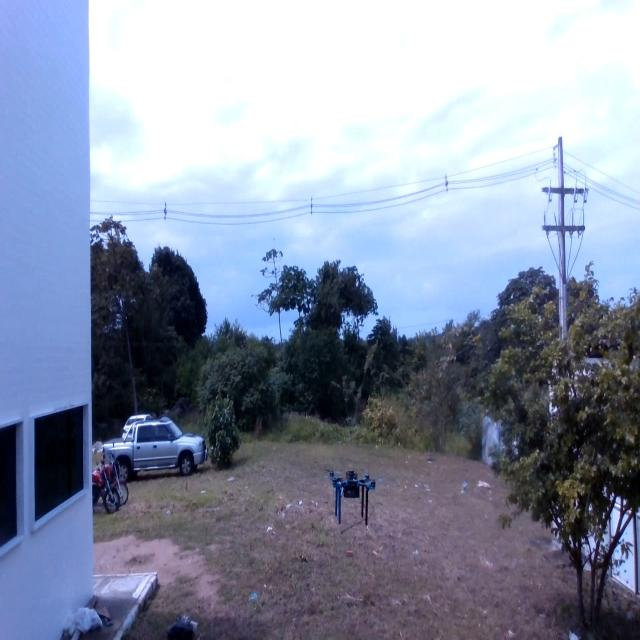-uav-: (318, 442, 386, 542)
